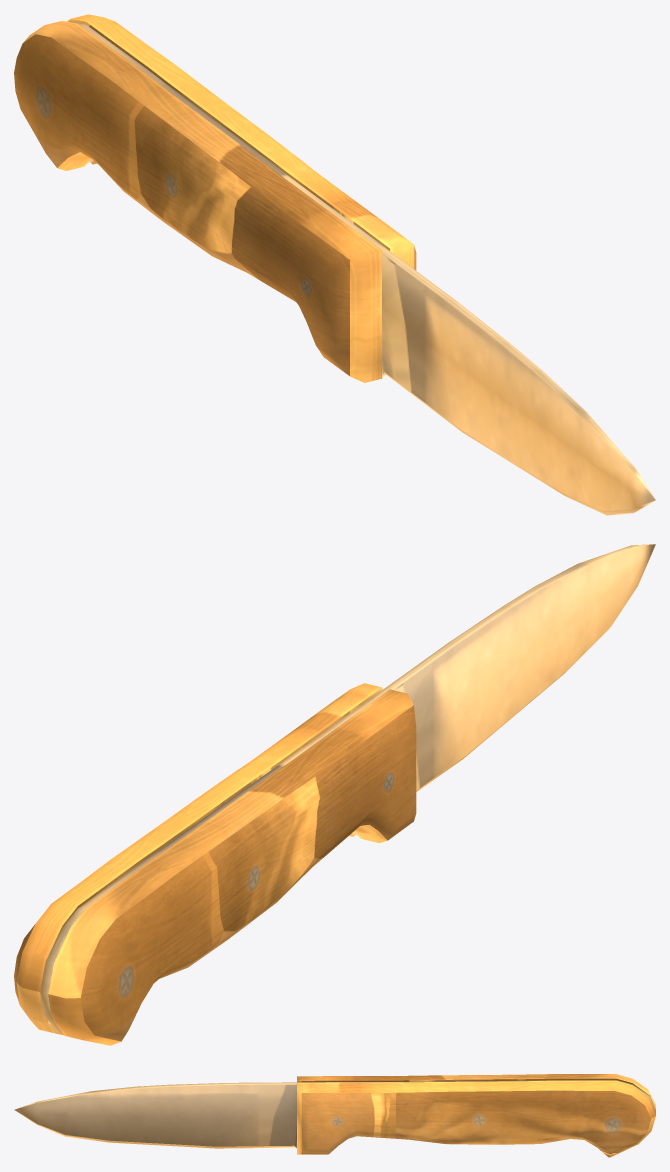
File: SM_Knife.fbx
3 renders of one model, top to bottom at view 1: azimuth 30°, elevation 25°; view 2: azimuth 150°, elevation 25°; view 3: azimuth 270°, elevation 25°, orthographic. The views are drawn at different scales.
Visible parts, largest first — view 1: SM_Knife_LOD0; view 2: SM_Knife_LOD0; view 3: SM_Knife_LOD0.
Boxes of the visible parts, box(x1,y1,x2,y2) form: SM_Knife_LOD0: box(14, 14, 655, 515); SM_Knife_LOD0: box(14, 544, 655, 1045); SM_Knife_LOD0: box(14, 1074, 655, 1157).
Size of the model in its own units: 4.45 by 57 by 7.11.
